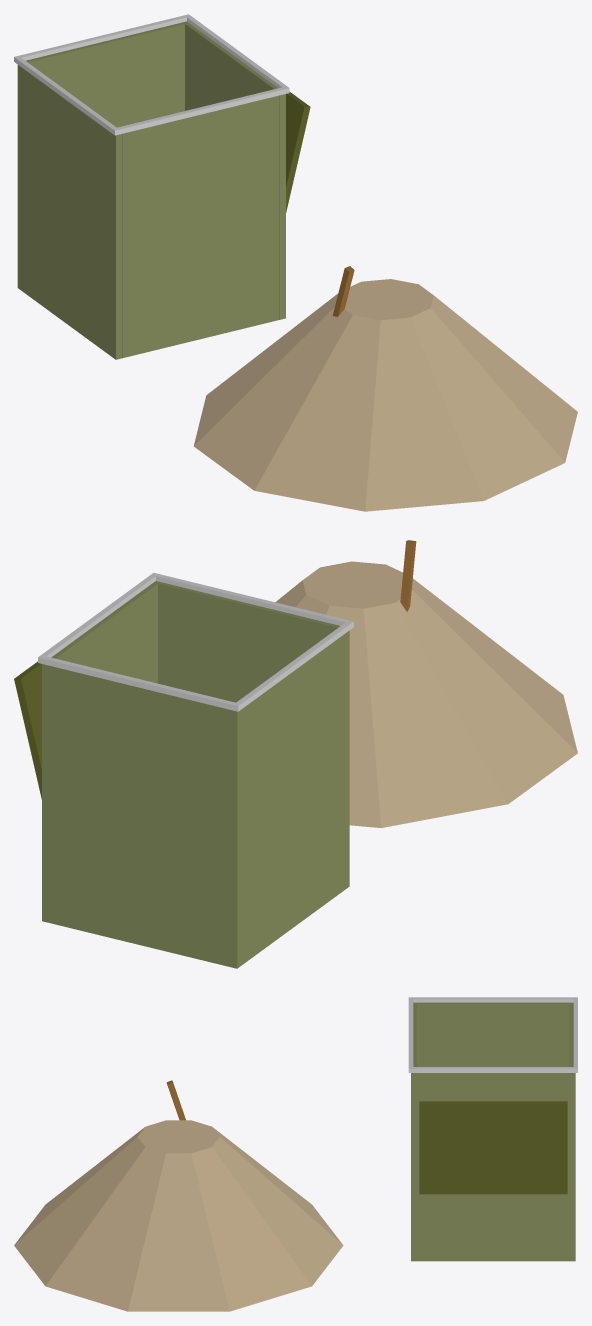
The model's file is SM_ObraHescoAbierto_v3_8m_LOD0.fbx.
The picture shows the model from 3 angles, top to bottom: view 1: azimuth 30°, elevation 25°; view 2: azimuth 150°, elevation 25°; view 3: azimuth 270°, elevation 25°; orthographic projection. The views are drawn at different scales.
Parts seen in each view (by area): view 1: SM_obra_curso_v26_LOD0; view 2: SM_obra_curso_v26_LOD0; view 3: SM_obra_curso_v26_LOD0.
Boxes of the visible parts, bbox=[...] form: SM_obra_curso_v26_LOD0: bbox=[14, 14, 577, 511]; SM_obra_curso_v26_LOD0: bbox=[14, 540, 577, 968]; SM_obra_curso_v26_LOD0: bbox=[14, 997, 577, 1311].
Bounding box in the file's own units: 2.09 × 1.44 × 3.76.
